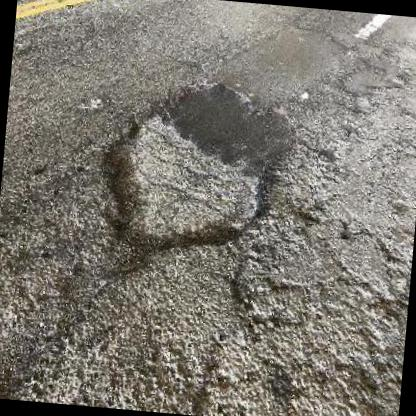pothole: (90, 68, 301, 289)
